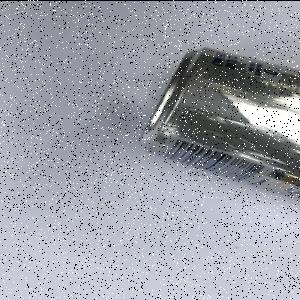Can: (137, 47, 300, 201)
